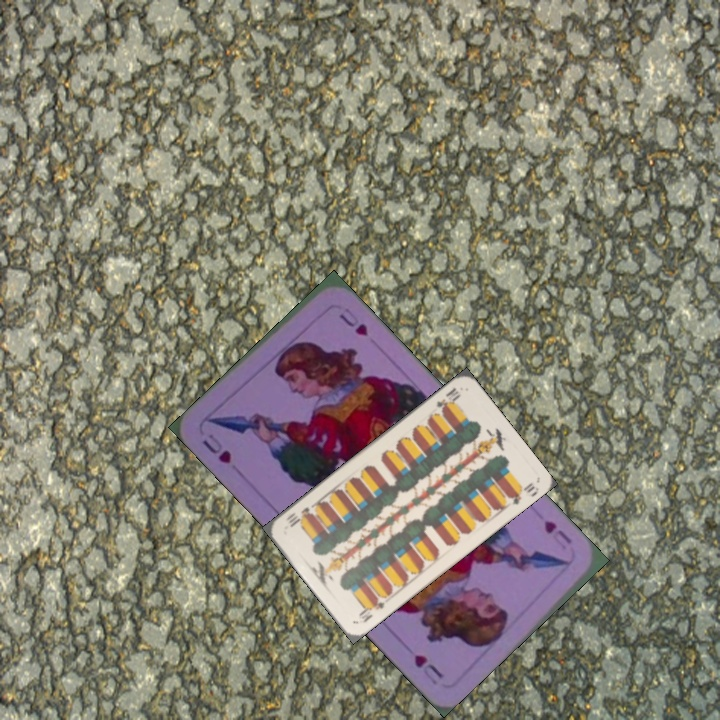E10: (354, 594, 388, 626), (432, 383, 463, 415)
HU: (198, 430, 234, 466), (540, 516, 575, 552)
